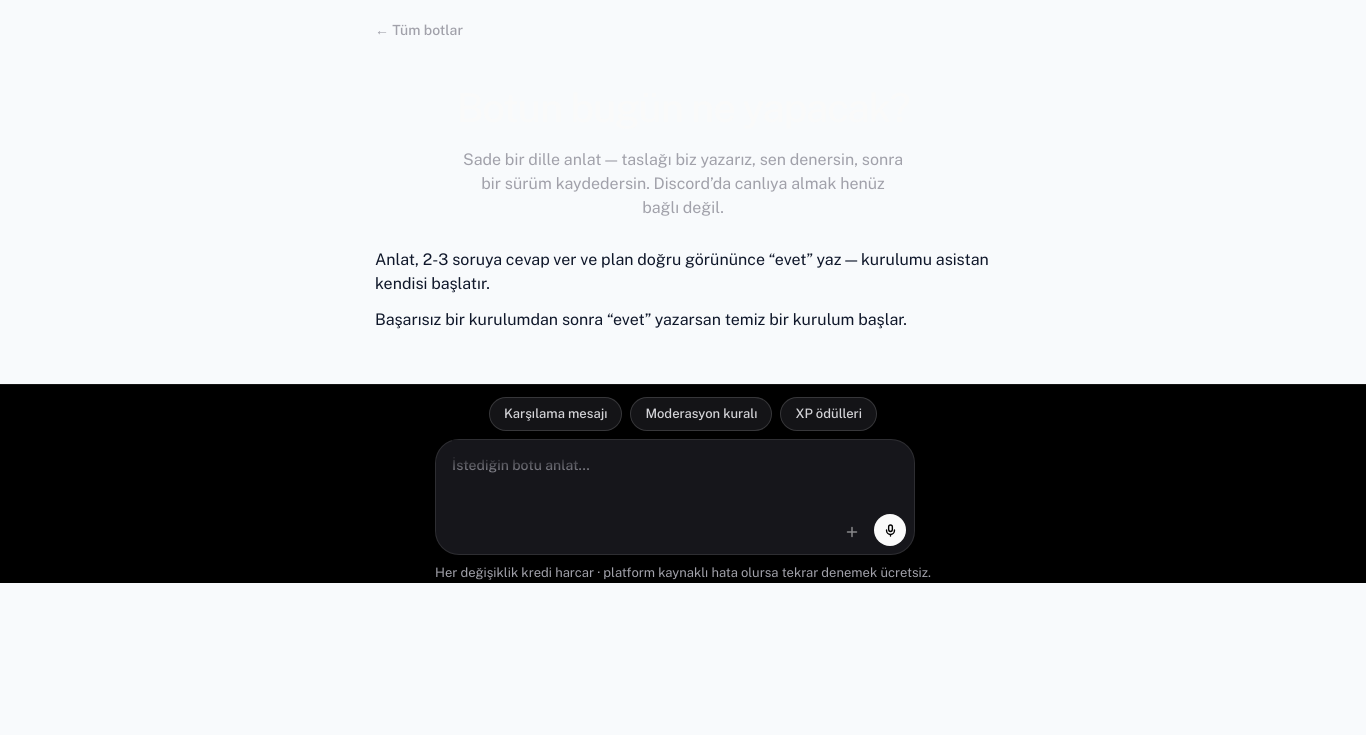
new bot page › verdict yes posts once with the turns tail and starts inline progress
Type "A moderation helper" into the text box named "Prompt".
click(675, 474); type("A moderation helper")  # box [436,440,914,508]
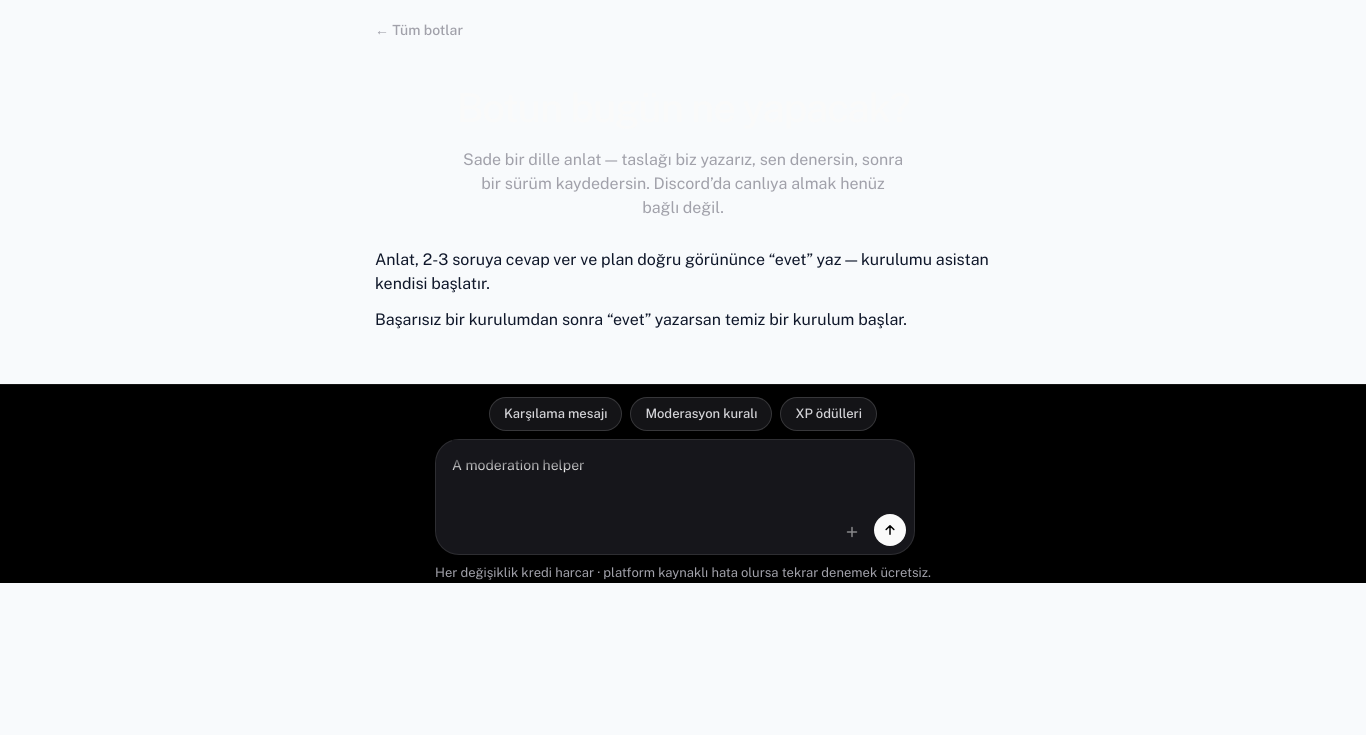
Press Enter in the text box named "Prompt", box [436,440,914,508]
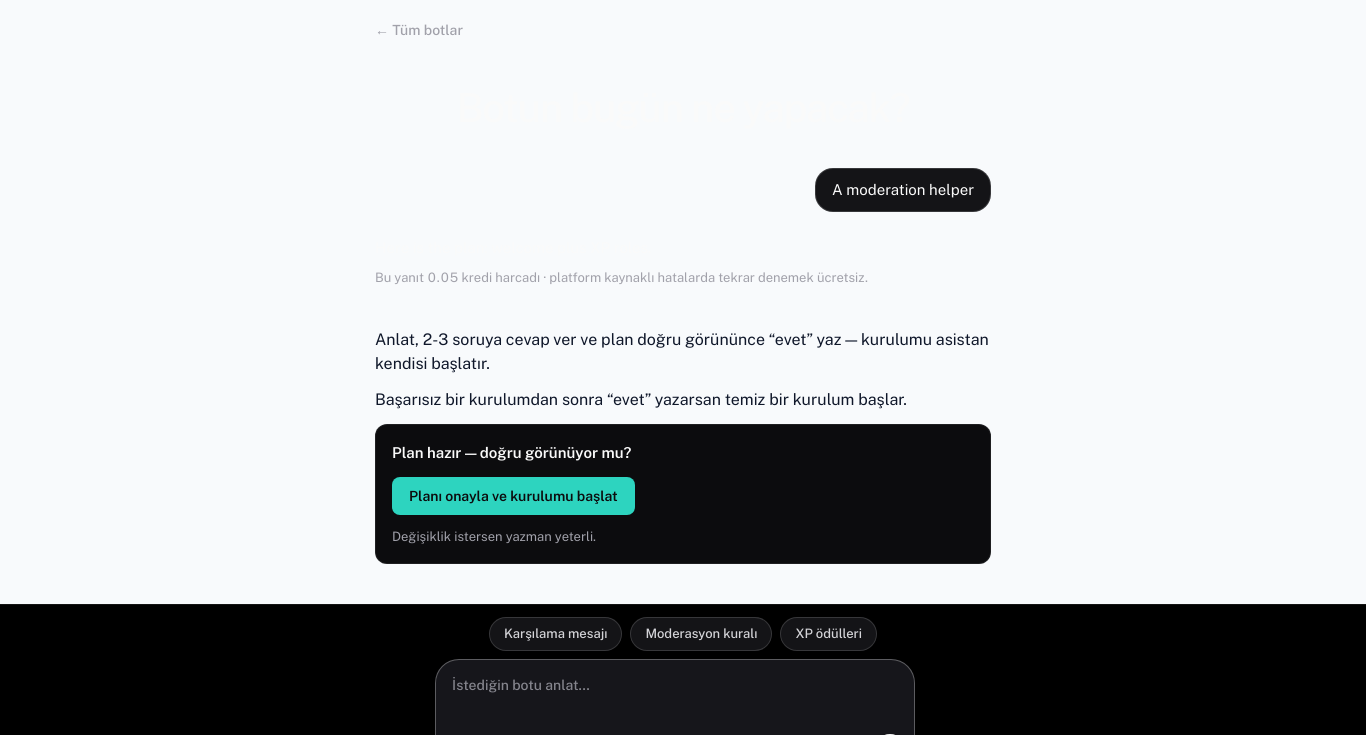
Type "Yes, looks good" into the text box named "Prompt".
click(675, 694); type("Yes, looks good")  # box [436,660,914,728]
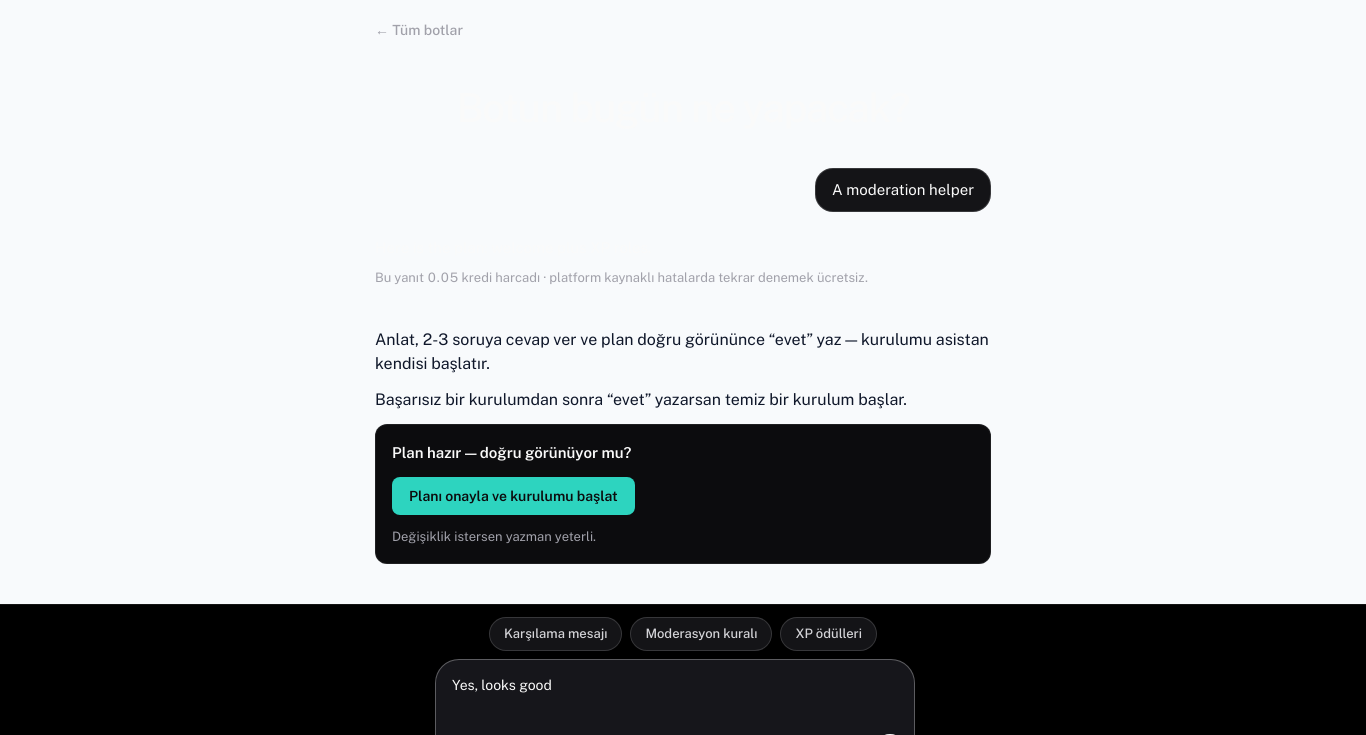
Press Enter in the text box named "Prompt", box [436,660,914,728]
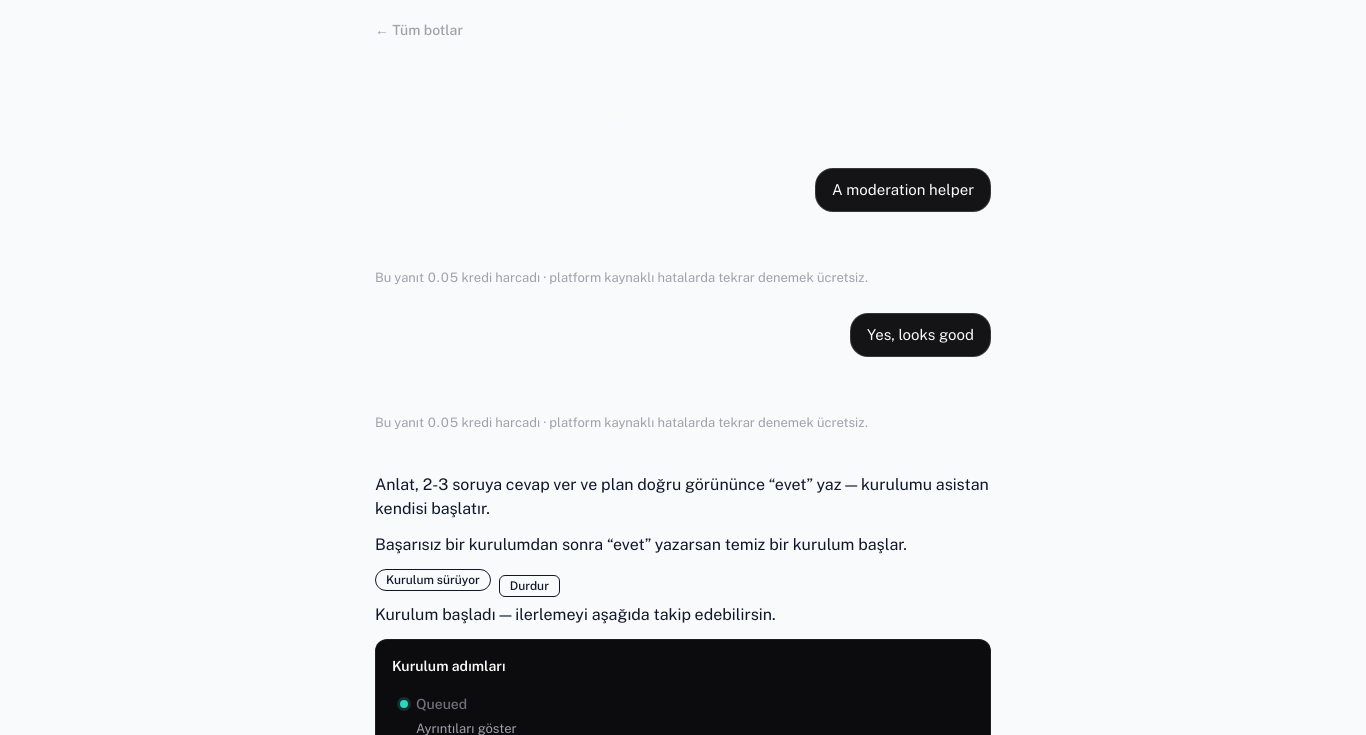
Expected: the text "Kurulum başladı — ilerlemeyi aşağıda takip edebilirsin." is shown, [375,605,776,624]
Expected: the text "Queued" is shown, [416,694,467,714]
